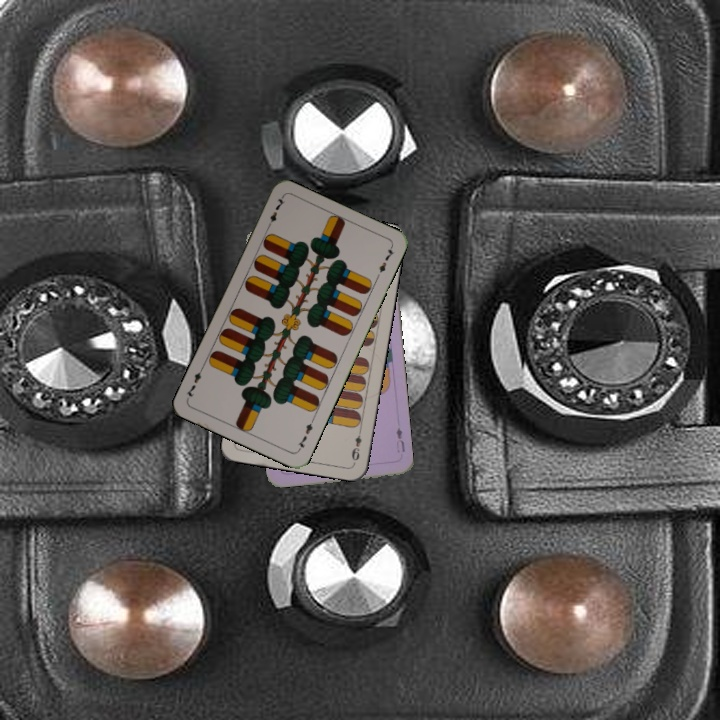E7: (263, 193, 288, 231), (294, 415, 317, 453)
E9: (347, 425, 364, 463)
EU: (392, 423, 407, 455)
